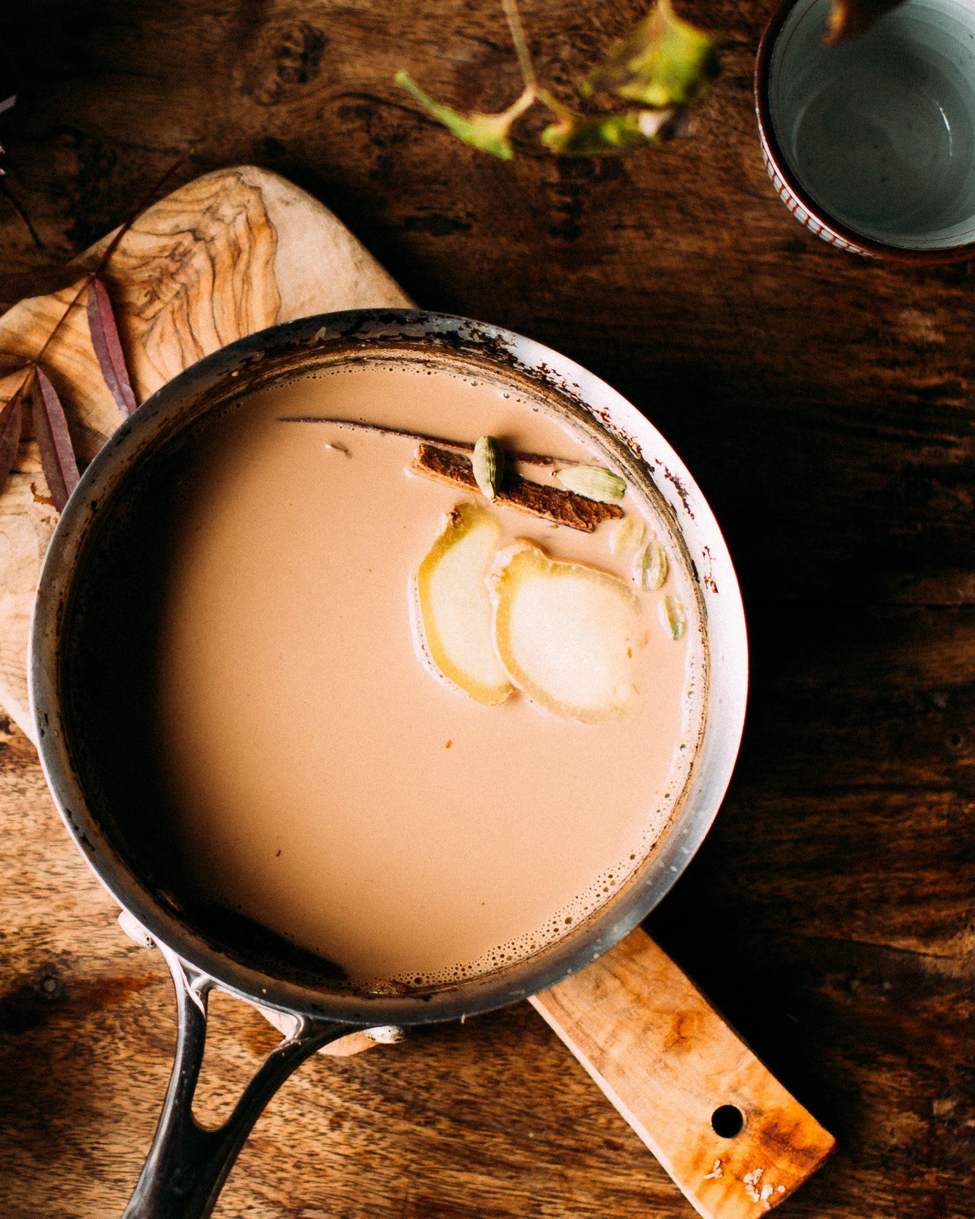Chai: (93, 343, 716, 1006)
